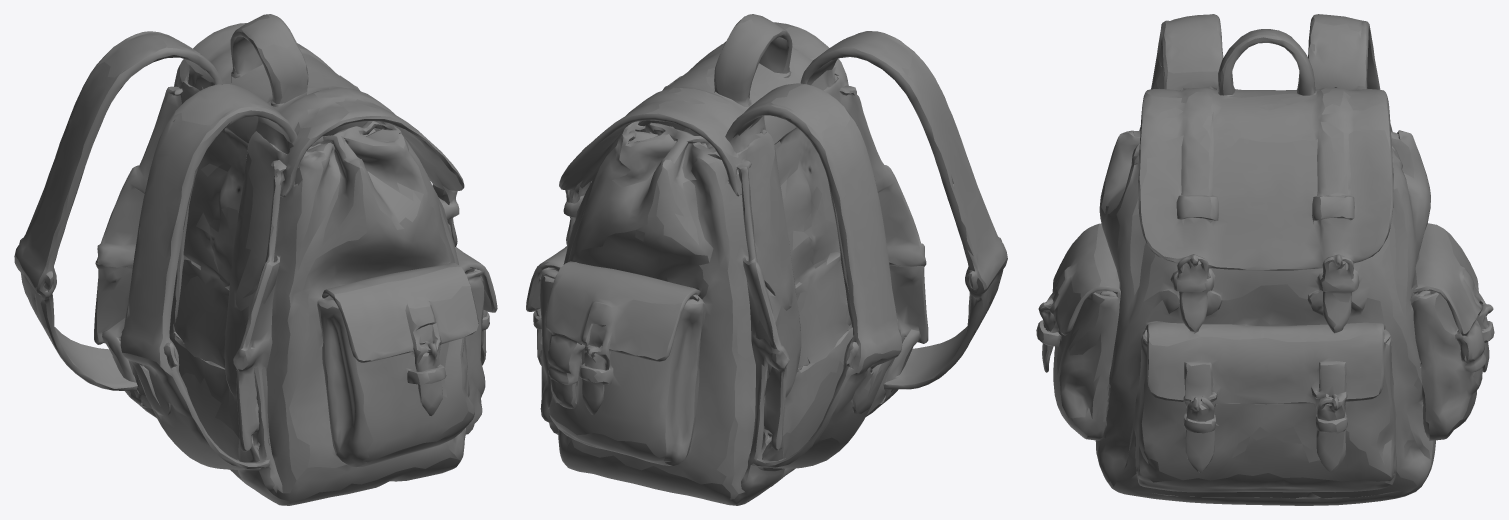
The model's file is completion_backpack_0.glb.
3 views of the same model, side by side, from view 1: azimuth 30°, elevation 25°; view 2: azimuth 150°, elevation 25°; view 3: azimuth 270°, elevation 25° (orthographic). The views are drawn at different scales.
Visible parts, largest first — view 1: geometry_0; view 2: geometry_0; view 3: geometry_0.
Part boxes in pixels (<box>): geometry_0: <box>14,14,497,505</box>; geometry_0: <box>526,14,1007,505</box>; geometry_0: <box>1036,14,1494,505</box>.
Bounding box in the file's own units: 0.9089 × 1 × 0.9788.
1 material, 1 textured.
